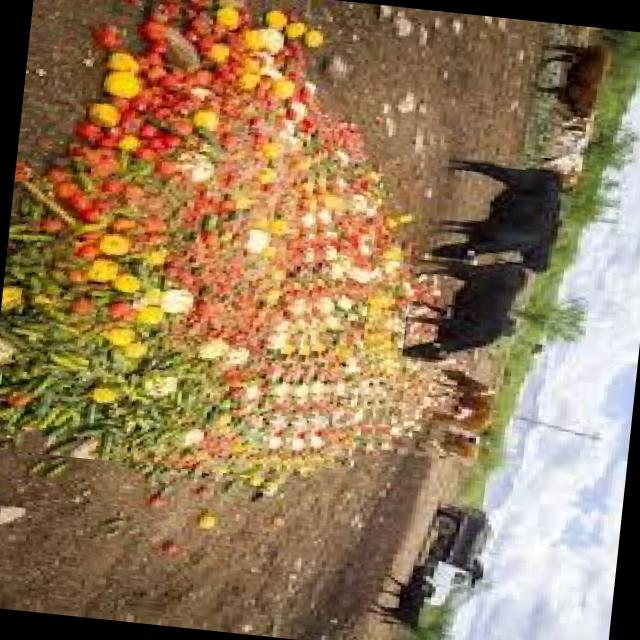Organic: (0, 0, 353, 481), (284, 146, 382, 473), (355, 260, 410, 452), (388, 356, 448, 439), (414, 272, 445, 322), (146, 542, 188, 568), (336, 131, 368, 157), (404, 327, 432, 348), (147, 494, 173, 514), (193, 512, 220, 530)
